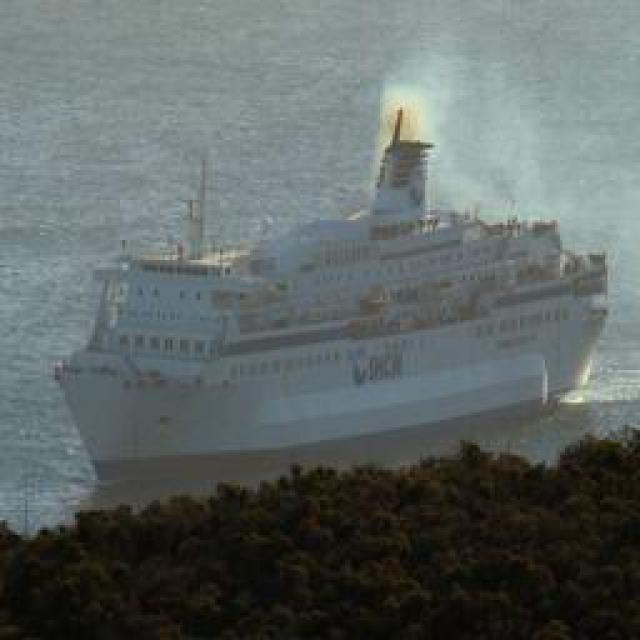Ship: (66, 122, 621, 475)
